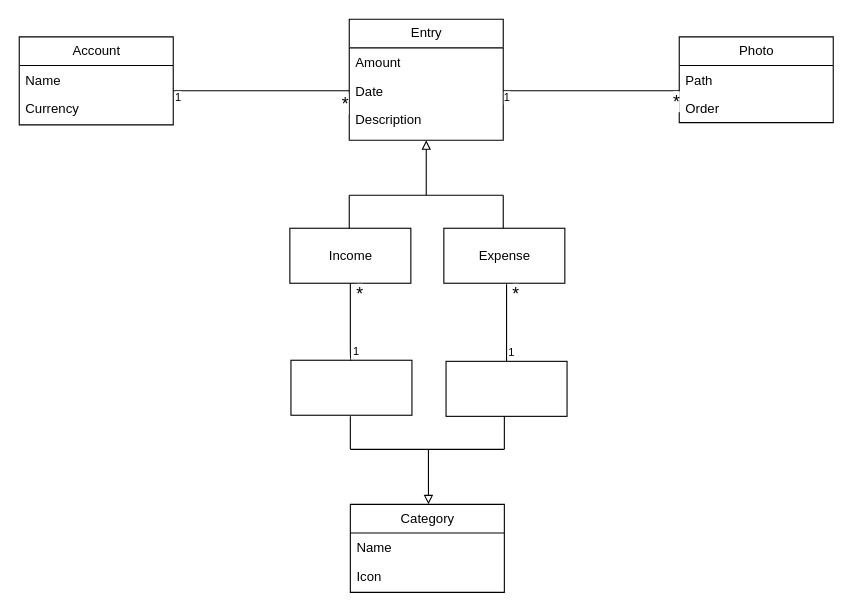
Image size: 853x613. Some labels were removed from this diagram. Each missing label, with the centre of its shape:
ExpenseCategory: the point at 506,388
IncomeCategory: the point at 351,387
